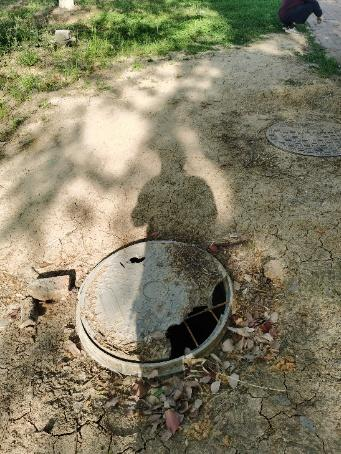wellcover: (65, 236, 254, 382), (264, 110, 341, 173)
